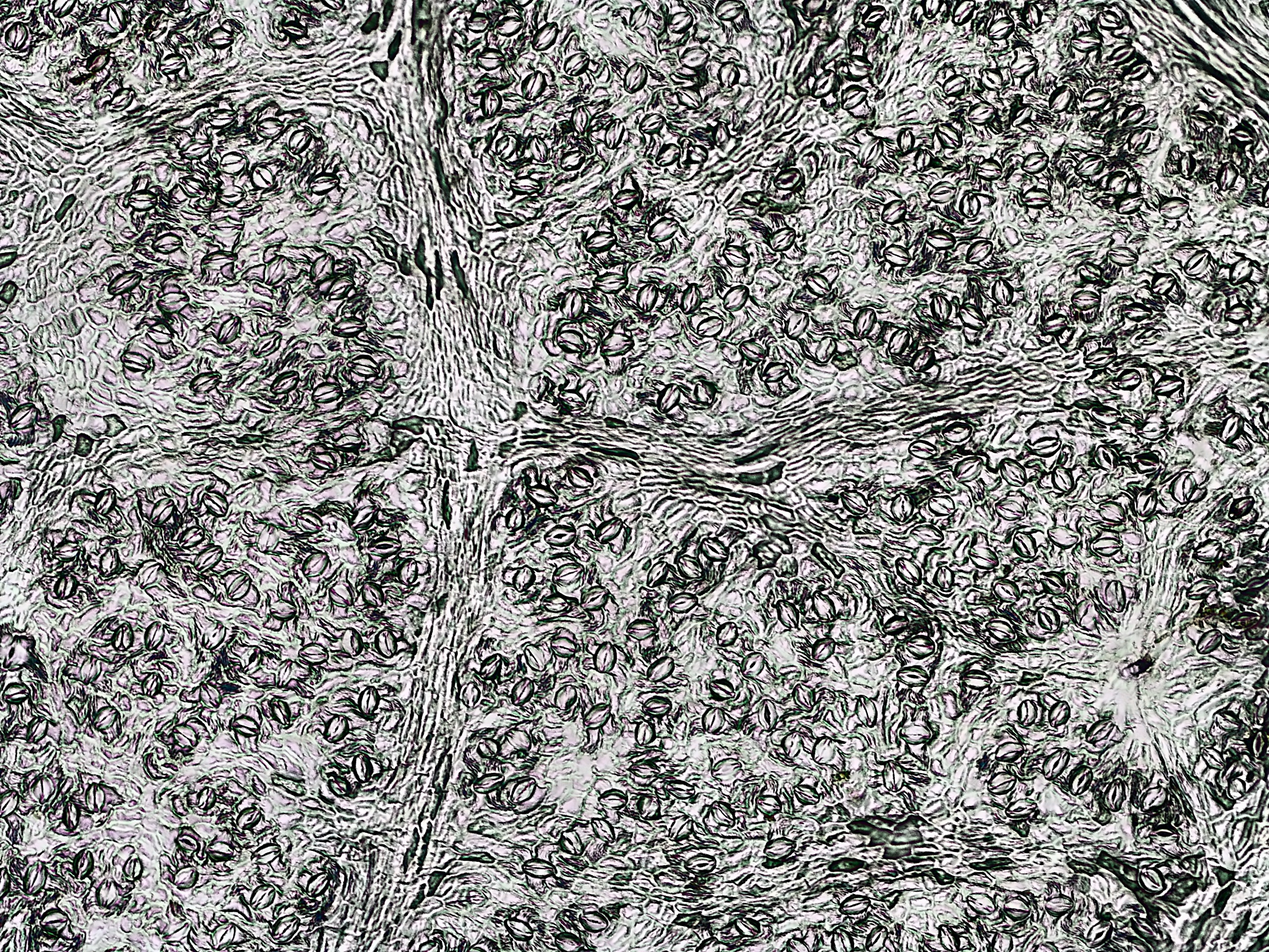stomata: (7, 616, 40, 668), (1148, 260, 1187, 299), (952, 292, 988, 333), (639, 214, 682, 248), (664, 773, 708, 806), (842, 482, 875, 526), (1225, 490, 1264, 527), (593, 321, 633, 357), (514, 853, 567, 879), (6, 399, 44, 435), (1039, 307, 1080, 340), (620, 751, 668, 779), (622, 613, 664, 643), (526, 129, 559, 167), (1178, 573, 1219, 603), (590, 511, 625, 546), (107, 616, 143, 650), (981, 614, 1018, 647), (1173, 465, 1205, 503), (1023, 423, 1063, 453), (707, 798, 742, 832), (648, 375, 680, 412), (875, 241, 913, 272), (472, 765, 508, 797), (641, 691, 682, 719), (1225, 249, 1256, 286), (91, 877, 124, 911), (1083, 715, 1117, 748), (985, 273, 1019, 306), (851, 298, 877, 341), (1232, 812, 1258, 855), (1131, 121, 1161, 158), (1000, 455, 1037, 485), (993, 492, 1030, 522), (520, 68, 547, 109), (938, 415, 976, 444), (950, 454, 988, 483), (825, 850, 867, 876), (1043, 522, 1085, 548), (250, 836, 284, 868), (349, 496, 380, 531), (905, 523, 952, 546), (108, 267, 144, 297), (664, 6, 700, 36), (922, 290, 952, 326), (1151, 371, 1191, 398), (1082, 533, 1136, 553), (5, 17, 34, 54), (622, 57, 651, 94), (1134, 482, 1163, 519), (642, 656, 683, 682), (200, 490, 238, 518), (90, 485, 124, 516), (244, 878, 275, 912), (1212, 408, 1243, 442), (960, 667, 999, 694), (902, 717, 937, 747), (562, 459, 597, 489), (21, 861, 57, 890), (836, 81, 872, 110), (1108, 240, 1144, 269), (555, 329, 592, 357), (0, 781, 24, 824), (80, 44, 118, 71), (143, 617, 170, 655), (748, 791, 786, 818), (713, 56, 745, 88), (1225, 774, 1257, 806), (213, 312, 243, 346), (3, 676, 37, 706), (370, 627, 404, 657), (82, 781, 112, 815), (511, 775, 541, 809), (1006, 796, 1040, 826), (1040, 567, 1074, 597), (1135, 901, 1158, 945), (987, 767, 1015, 803), (882, 489, 909, 526), (102, 3, 133, 35), (1093, 444, 1125, 475), (311, 166, 344, 196), (792, 779, 825, 809), (274, 911, 303, 945), (488, 130, 522, 159), (579, 227, 618, 252), (735, 334, 771, 361), (331, 318, 375, 340), (1090, 498, 1136, 519), (1158, 192, 1189, 223), (1201, 741, 1231, 773), (1220, 300, 1260, 324), (191, 367, 224, 396), (777, 307, 810, 336), (1102, 775, 1127, 813), (1135, 412, 1173, 437), (892, 665, 935, 687), (919, 226, 962, 248), (562, 825, 589, 860), (542, 521, 578, 547), (1137, 861, 1168, 891), (194, 537, 219, 574), (476, 45, 509, 73), (860, 0, 888, 33), (1114, 191, 1147, 219), (902, 436, 942, 459), (323, 580, 357, 607), (294, 637, 332, 661), (590, 811, 614, 849), (690, 374, 714, 412), (592, 268, 627, 294), (94, 544, 124, 574), (119, 849, 144, 885), (1045, 691, 1070, 727), (1212, 707, 1248, 732), (1195, 624, 1225, 654), (700, 533, 730, 563), (602, 116, 627, 152), (583, 899, 612, 930), (508, 677, 537, 708), (674, 83, 705, 112), (1068, 27, 1099, 56), (198, 620, 230, 648), (1064, 763, 1092, 795), (557, 290, 589, 318), (79, 658, 112, 685), (592, 644, 619, 677), (1133, 448, 1166, 475), (762, 836, 799, 860), (993, 740, 1030, 764), (156, 290, 190, 316), (34, 906, 68, 932), (1113, 365, 1147, 391), (1118, 59, 1158, 81), (897, 553, 922, 588), (935, 919, 965, 948), (849, 698, 878, 728), (738, 648, 768, 677), (622, 0, 652, 29), (326, 272, 354, 303), (496, 10, 527, 38), (846, 50, 874, 81), (345, 354, 381, 378), (775, 597, 802, 629), (460, 9, 492, 36), (671, 809, 697, 842), (609, 185, 648, 207), (942, 73, 975, 99), (500, 915, 537, 938), (513, 558, 536, 595), (299, 548, 328, 577), (993, 577, 1022, 606), (803, 270, 832, 299), (326, 706, 350, 741), (559, 922, 587, 952), (1017, 688, 1038, 728), (712, 752, 742, 780), (676, 552, 704, 582), (1088, 402, 1123, 426), (69, 848, 96, 879), (170, 863, 201, 890), (178, 170, 210, 196), (235, 798, 261, 830), (791, 687, 817, 719), (969, 541, 1001, 567), (23, 715, 56, 740), (527, 480, 560, 505), (648, 549, 668, 590), (1229, 608, 1263, 632), (1006, 895, 1033, 925), (1152, 818, 1179, 848), (147, 321, 178, 347), (123, 349, 154, 375), (302, 869, 333, 895), (721, 243, 752, 269), (527, 371, 553, 402), (126, 188, 161, 211), (231, 716, 266, 739), (976, 158, 1011, 181), (520, 638, 545, 670), (595, 783, 627, 808), (717, 0, 749, 25), (935, 120, 967, 145), (508, 177, 546, 198), (780, 728, 804, 761), (1042, 890, 1075, 914), (708, 676, 741, 700), (636, 276, 658, 312), (1189, 536, 1222, 560), (204, 22, 232, 50), (313, 380, 341, 408), (699, 708, 727, 736), (810, 736, 837, 765), (968, 237, 997, 264), (1045, 744, 1068, 778), (923, 490, 957, 513), (252, 111, 278, 141), (768, 226, 798, 252), (1079, 86, 1118, 106), (1248, 727, 1269, 764), (883, 758, 904, 795), (1064, 285, 1101, 306), (149, 495, 174, 526), (255, 329, 280, 360), (30, 770, 55, 801), (112, 82, 134, 117), (694, 316, 729, 338), (586, 698, 610, 730), (810, 631, 834, 663), (969, 101, 1001, 125), (1119, 300, 1157, 320), (683, 856, 711, 883), (833, 924, 860, 952), (1184, 247, 1211, 275), (1072, 254, 1108, 275), (272, 595, 298, 624), (720, 283, 746, 312), (221, 149, 251, 174), (713, 617, 738, 647), (966, 891, 1000, 913), (766, 166, 805, 185), (683, 277, 701, 318), (60, 798, 83, 830), (1021, 5, 1044, 37), (910, 344, 933, 376), (1068, 153, 1103, 174), (563, 53, 590, 80), (876, 197, 903, 224), (655, 137, 681, 165), (766, 358, 794, 384), (351, 750, 373, 783), (887, 607, 912, 636), (1073, 598, 1098, 627), (224, 569, 248, 599), (335, 629, 365, 653), (568, 106, 592, 136), (682, 43, 712, 67), (906, 633, 940, 654), (1213, 158, 1234, 192), (582, 586, 613, 609), (812, 593, 835, 624), (268, 371, 300, 393), (397, 555, 419, 587), (1103, 38, 1138, 58), (219, 184, 248, 208), (152, 231, 181, 255), (532, 20, 556, 49), (1050, 462, 1074, 491), (557, 679, 578, 712), (146, 7, 169, 37), (639, 106, 669, 129), (1021, 151, 1051, 174), (365, 537, 403, 555), (270, 697, 292, 728), (557, 147, 588, 169), (286, 129, 313, 154), (865, 923, 890, 950), (293, 510, 325, 531), (813, 68, 834, 100), (927, 178, 955, 202), (1088, 916, 1111, 945), (1141, 785, 1170, 808), (858, 134, 881, 163), (155, 56, 192, 74), (667, 594, 702, 613), (181, 138, 211, 160), (1105, 584, 1127, 614), (1048, 81, 1068, 114), (52, 538, 83, 559), (1191, 107, 1218, 131), (889, 322, 907, 358), (49, 0, 81, 20), (413, 930, 442, 952), (1038, 604, 1060, 633), (479, 85, 498, 118), (92, 702, 117, 727), (546, 586, 571, 611), (324, 772, 350, 796), (503, 506, 527, 532), (549, 634, 575, 658), (953, 2, 979, 26), (1009, 102, 1033, 128), (1084, 351, 1123, 367), (1010, 54, 1037, 77), (307, 250, 327, 281), (462, 678, 482, 709), (685, 141, 707, 169), (839, 893, 875, 910), (936, 561, 954, 595), (364, 577, 385, 606), (252, 164, 276, 189), (358, 687, 378, 717), (758, 705, 778, 735), (1013, 530, 1035, 557), (979, 62, 1001, 89), (181, 519, 202, 547), (816, 335, 836, 364), (1177, 147, 1194, 181), (1019, 189, 1051, 207), (240, 644, 265, 667), (174, 833, 200, 855), (1230, 125, 1260, 144), (634, 715, 652, 746), (210, 105, 233, 129), (200, 684, 223, 708), (710, 120, 729, 149), (988, 18, 1017, 37), (138, 562, 159, 588), (195, 784, 216, 810), (478, 657, 508, 675), (895, 125, 913, 155), (640, 791, 657, 822), (1096, 5, 1121, 26), (206, 843, 236, 860), (175, 723, 196, 747), (786, 935, 815, 952), (555, 562, 584, 579), (472, 736, 504, 751), (740, 916, 764, 936), (139, 676, 167, 693), (164, 919, 192, 936), (1120, 106, 1149, 122), (920, 0, 943, 20), (962, 193, 980, 218), (56, 572, 72, 600), (217, 922, 234, 947), (280, 22, 308, 36), (916, 148, 930, 173), (2, 861, 10, 903), (1109, 171, 1125, 191)
